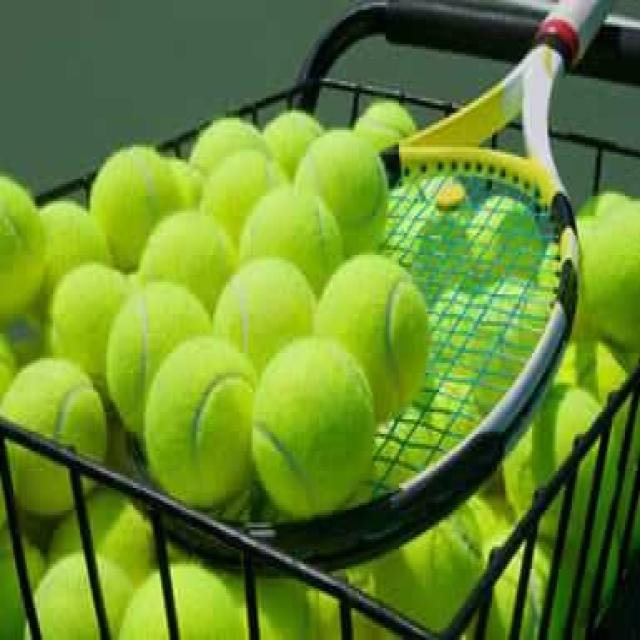Tennis_Ball: (258, 356, 375, 522), (314, 261, 430, 418), (144, 338, 256, 500), (109, 274, 211, 418), (372, 504, 488, 630), (14, 353, 109, 501), (301, 127, 394, 256), (506, 379, 604, 498), (219, 257, 317, 368), (464, 286, 557, 398), (247, 182, 346, 285), (98, 141, 178, 257), (143, 212, 243, 304), (46, 488, 159, 568), (45, 265, 134, 359), (124, 564, 232, 640), (583, 202, 640, 339), (28, 553, 117, 640), (40, 200, 120, 294), (0, 172, 46, 320), (188, 116, 269, 187), (469, 195, 546, 268), (0, 535, 45, 640), (261, 109, 329, 175), (353, 101, 414, 161)
